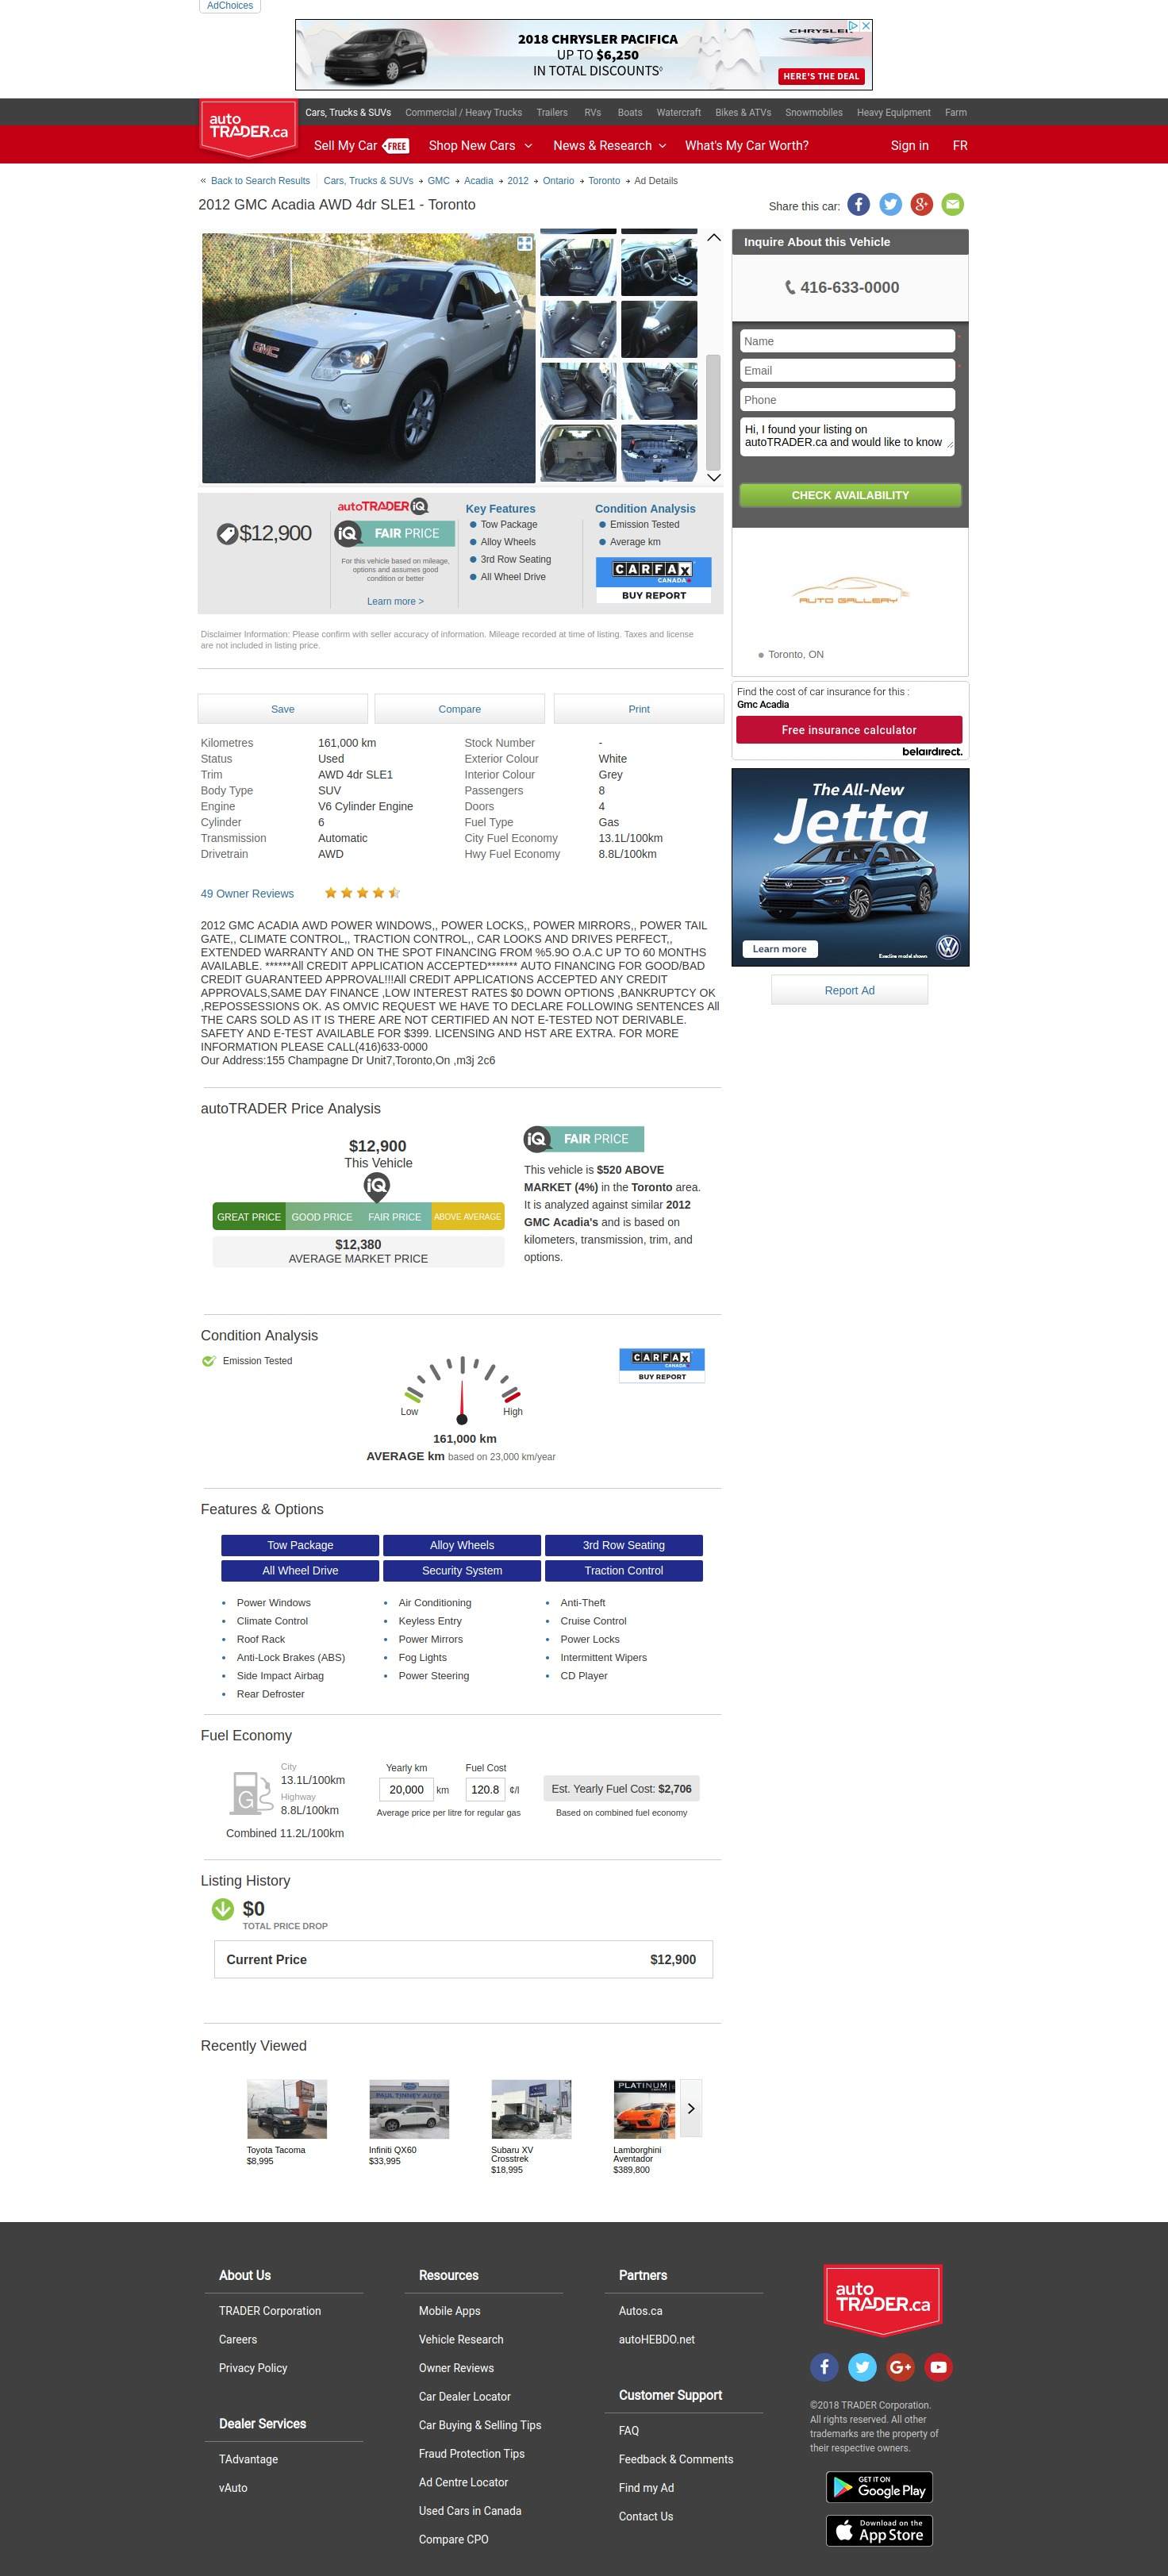car: (706, 470, 724, 488)
